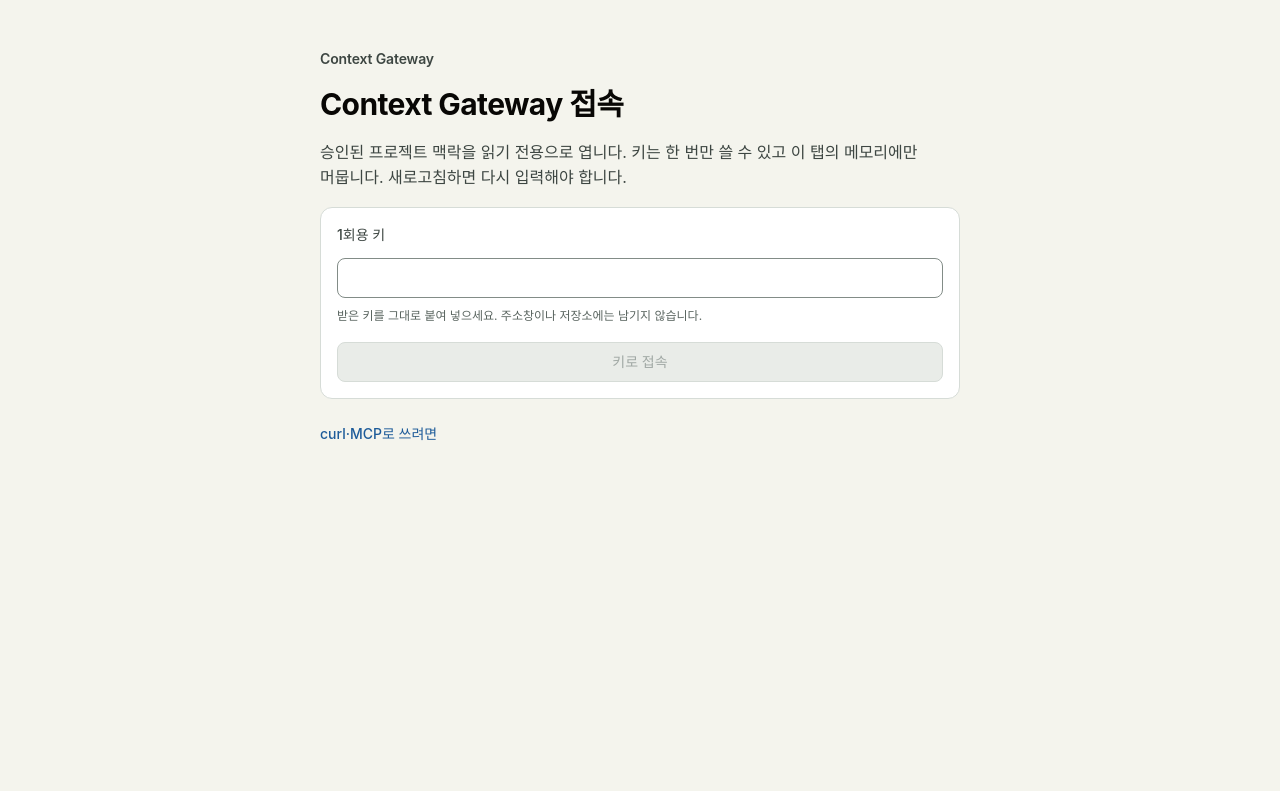
Test: 로그인과 정상 조회 › 문서 단건과 전체 맥락에서 문서 A/B provenance를 스냅샷 값과 섞지 않는다
The width and height of the screenshot is (1280, 791).
Type "synthetic-one-time-key-0001" into the password field labelled "1회용 키" at (640, 278), box [337, 258, 943, 298]
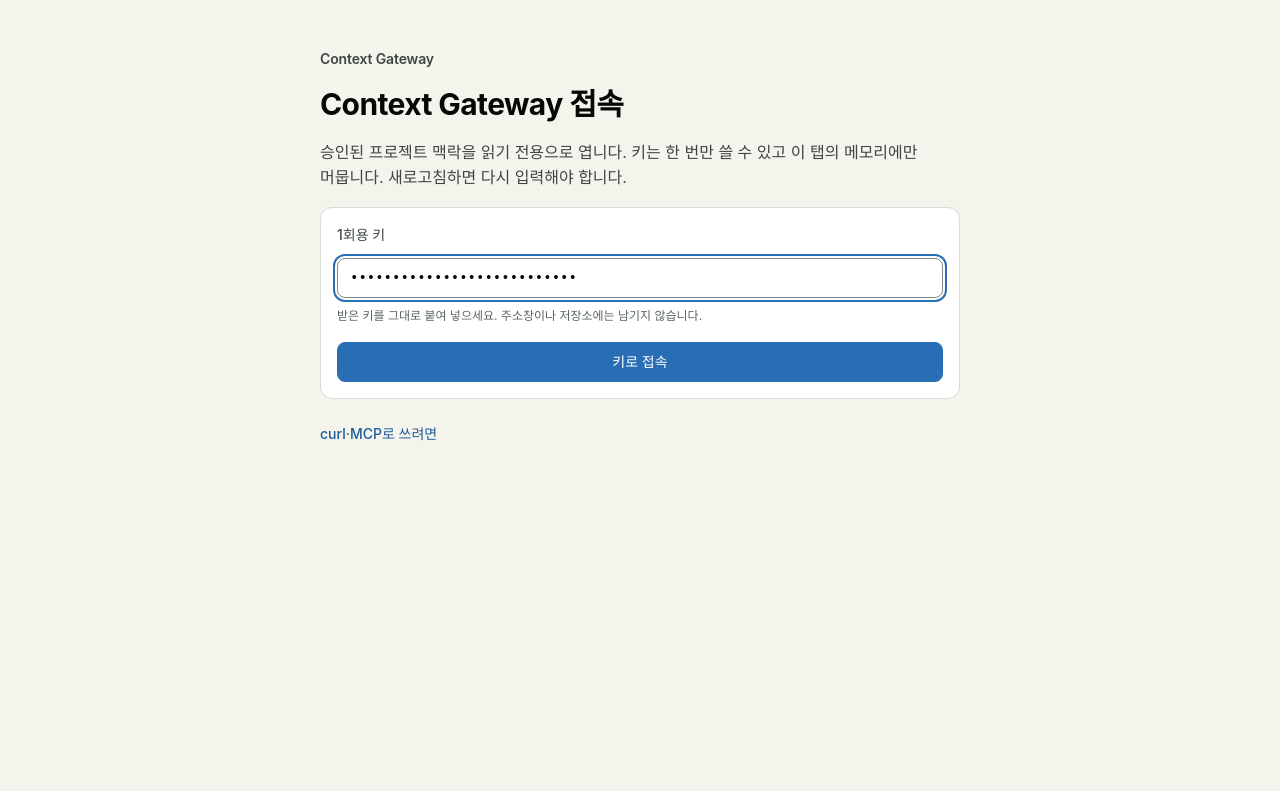
Click the button "키로 접속" at (640, 362), box [337, 342, 943, 382]
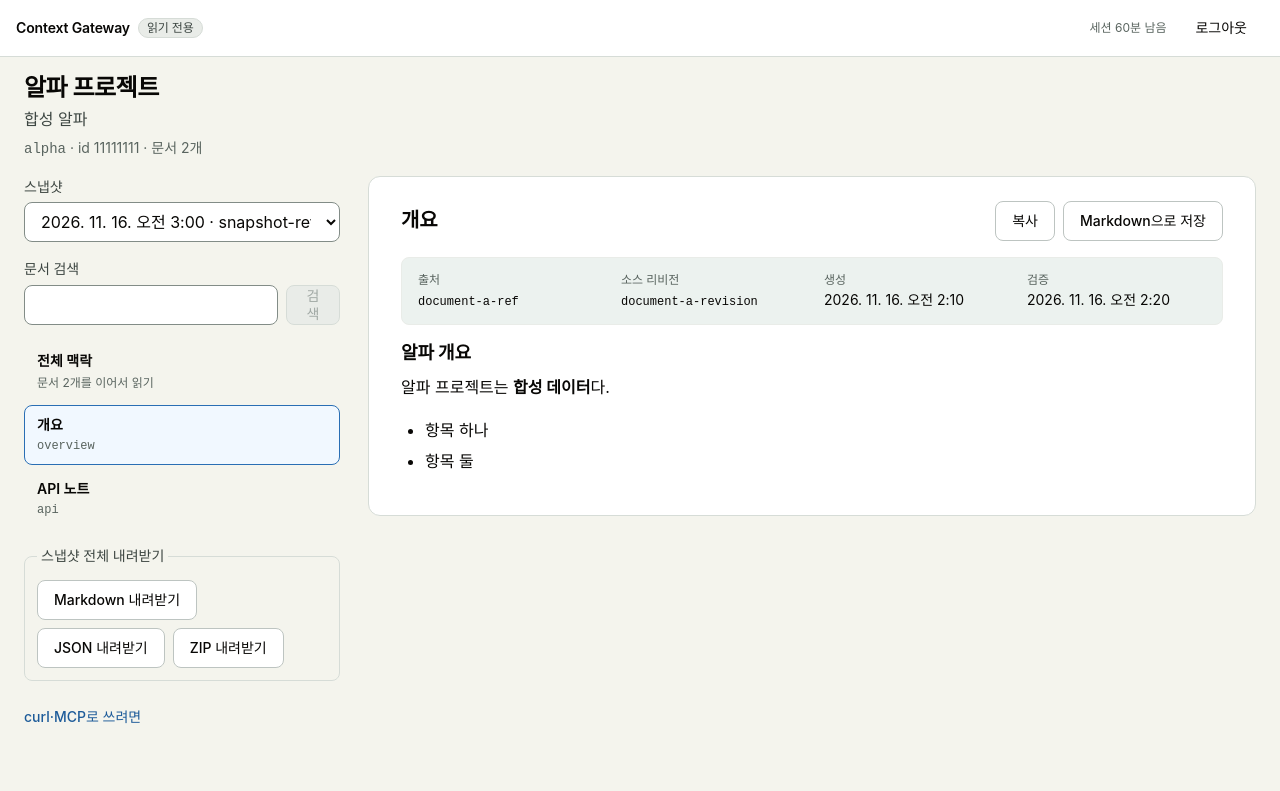
Check: the heading "알파 프로젝트" is shown, box [24, 73, 159, 102]
Check: the text "합성 데이터" is shown, box [513, 377, 590, 397]
Check: the text "document-a-ref" is shown, box [418, 295, 519, 309]
Click the button "API 노트 api" at (63, 489), box [24, 469, 340, 529]
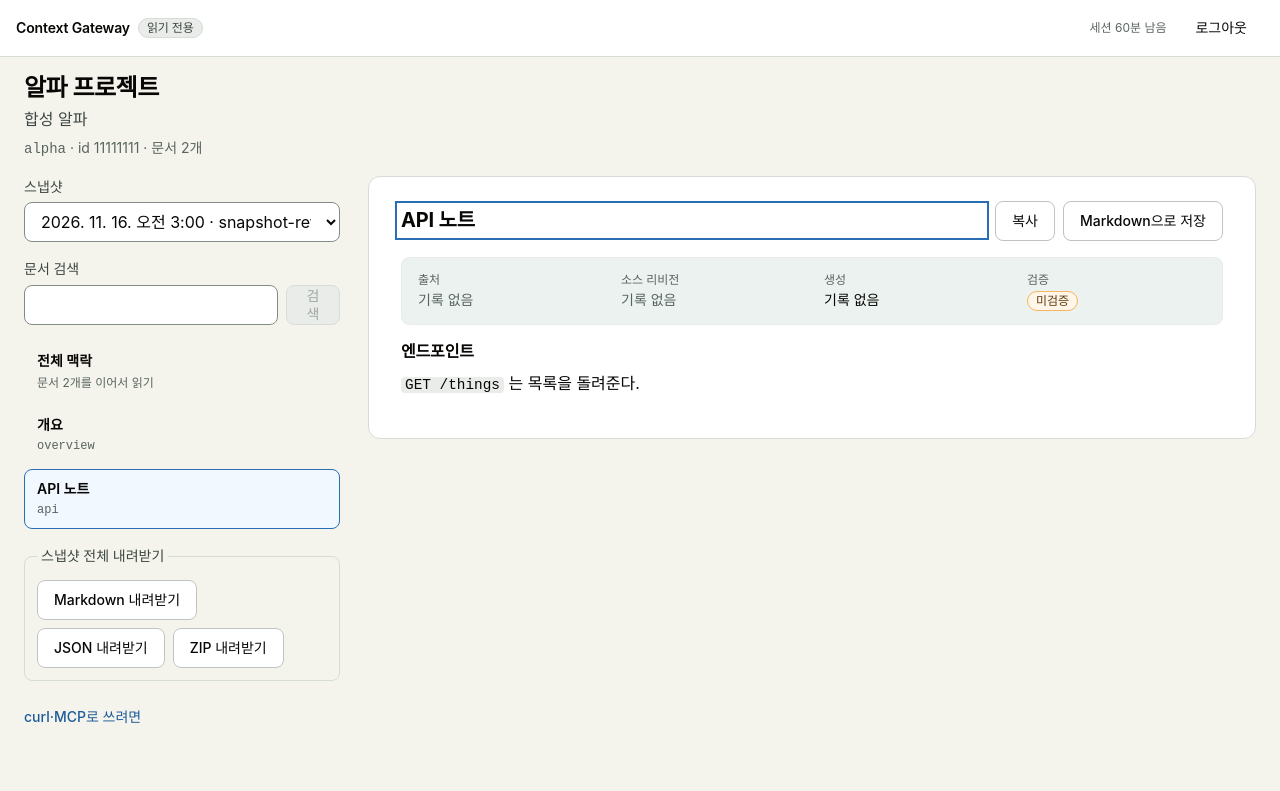
Check: the text "GET /things" is shown, box [401, 377, 504, 393]
Check: the text "미검증" is shown, box [1027, 291, 1078, 311]
Check: the text "기록 없음" is shown 3 times, box [418, 291, 474, 308]; [621, 291, 676, 308]; [824, 291, 880, 308]
Click the button "전체 맥락 문서 2개를 이어서 읽기" at (65, 360), box [24, 341, 340, 401]
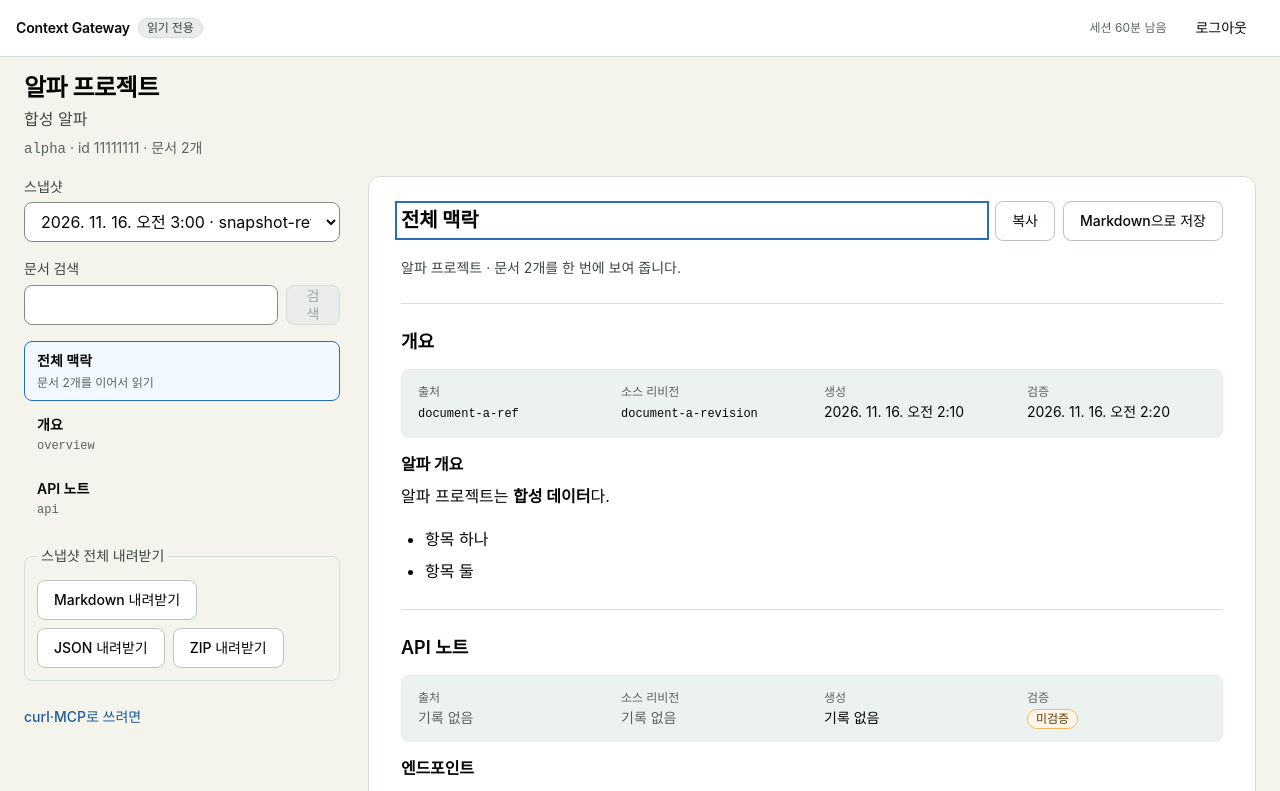
Check: the heading "전체 맥락" is shown, box [401, 208, 478, 232]
Check: the number of elements named "문서 출처" is 2, box [401, 369, 1223, 438]; [401, 674, 1223, 742]
Check: the text "document-a-ref" is shown, box [418, 407, 519, 421]
